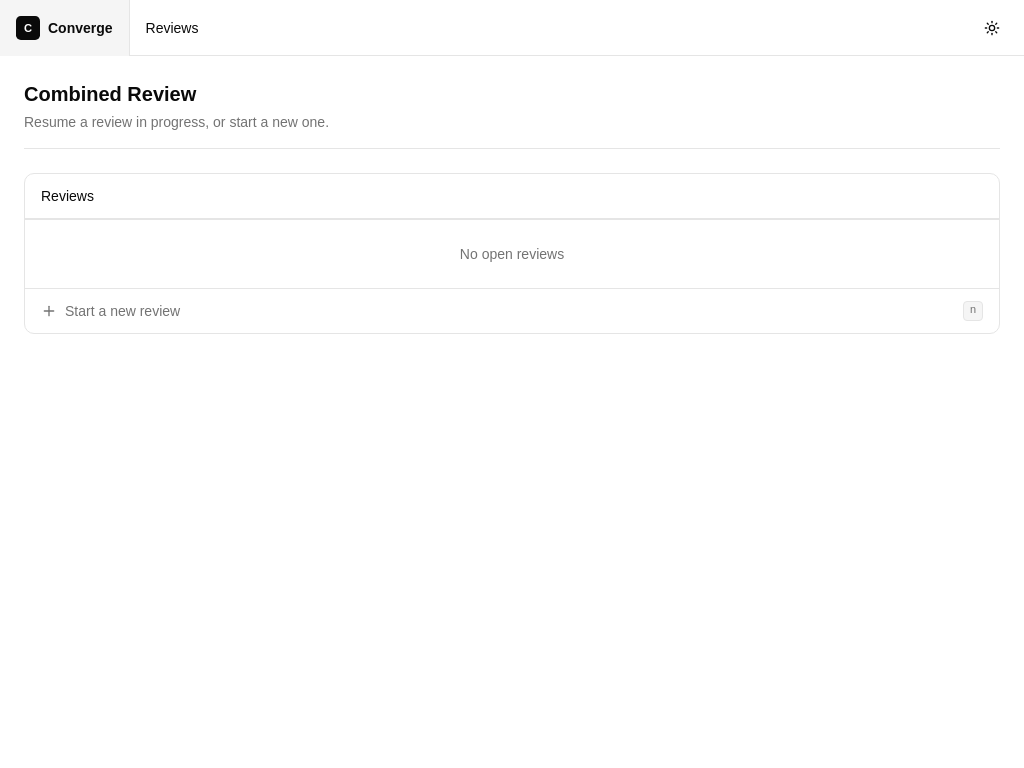
Test case: ReviewsPage › opens the drawer from the start-a-new-review row
Click the button "Start a new review n": [123, 311] box [25,289,999,333]
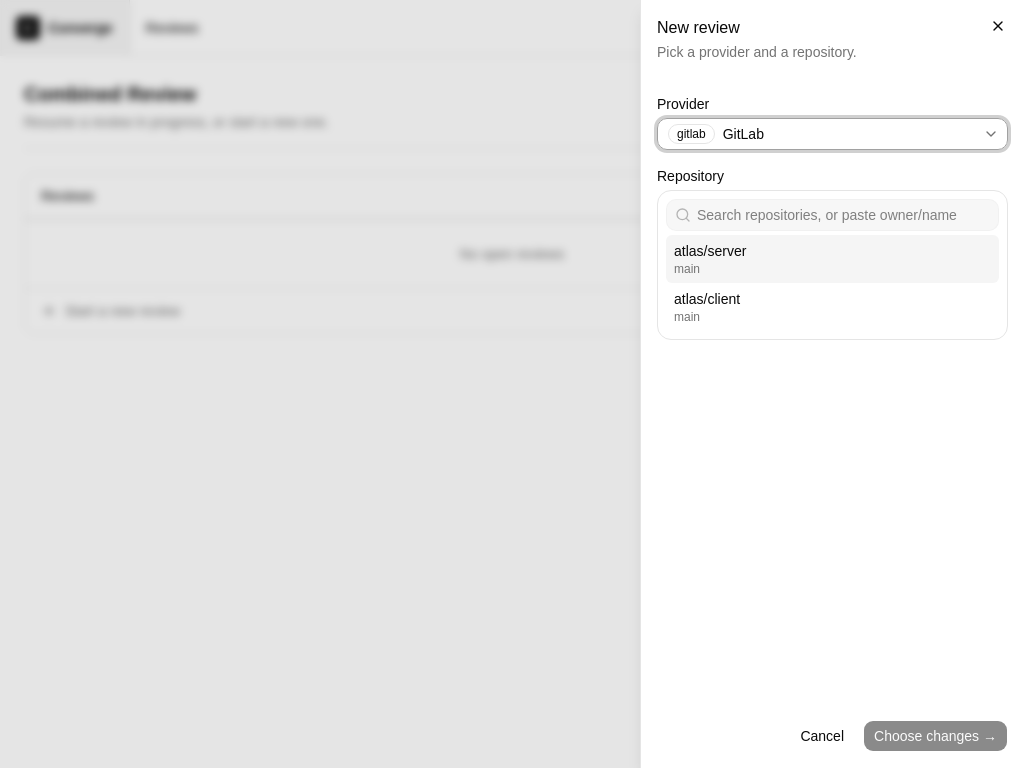
Expected: the dialog "New review" is shown, [640,0,1023,767]
